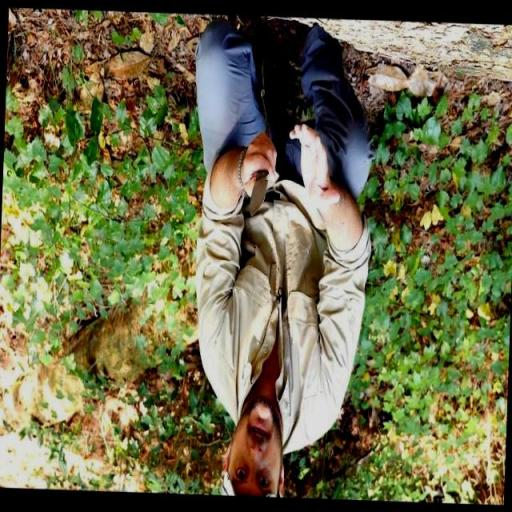knife: (248, 170, 268, 217)
